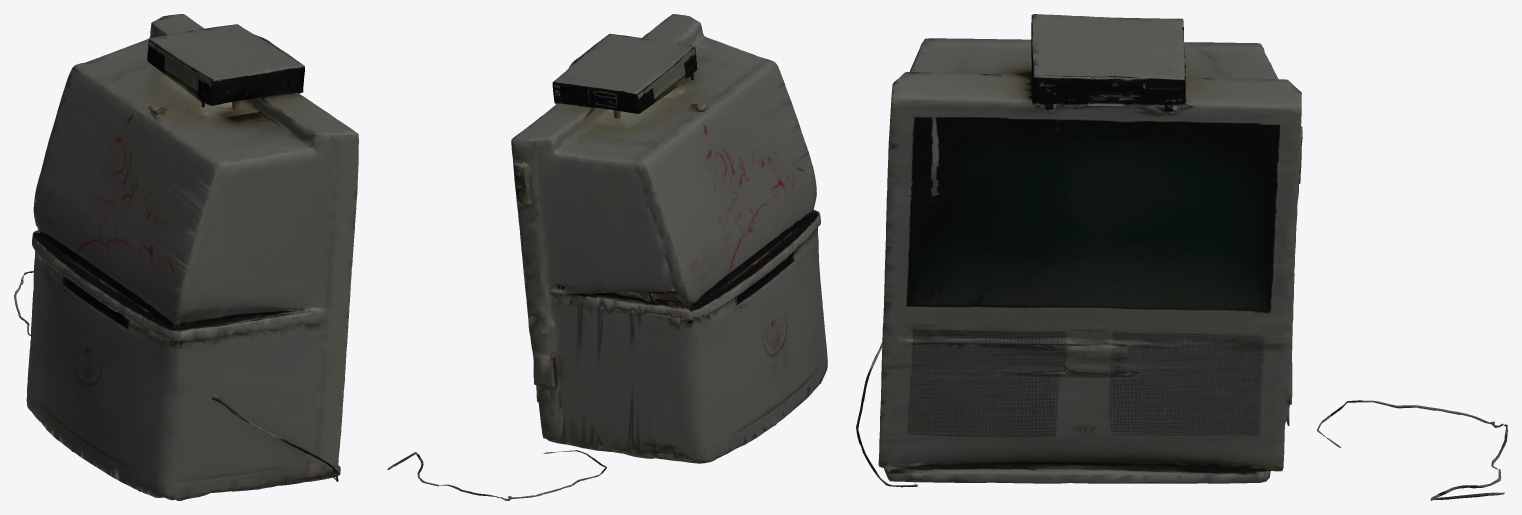
Rendered from crt-lite.glb.
The picture shows the model from 3 angles, left to right: view 1: azimuth 30°, elevation 25°; view 2: azimuth 150°, elevation 25°; view 3: azimuth 270°, elevation 25°; orthographic projection. The views are drawn at different scales.
Parts seen in each view (by area): view 1: tripo_node_026d4c87-e637-46a3-8f36-2dd869dc0341; view 2: tripo_node_026d4c87-e637-46a3-8f36-2dd869dc0341; view 3: tripo_node_026d4c87-e637-46a3-8f36-2dd869dc0341.
Part boxes in pixels (left/top/right/bottom): tripo_node_026d4c87-e637-46a3-8f36-2dd869dc0341: left=14, top=14, right=358, bottom=500; tripo_node_026d4c87-e637-46a3-8f36-2dd869dc0341: left=387, top=14, right=827, bottom=500; tripo_node_026d4c87-e637-46a3-8f36-2dd869dc0341: left=856, top=14, right=1507, bottom=500.
Size of the model in its own units: 0.5174 by 0.7391 by 1.
Materials: 1 (1 with a texture image).
